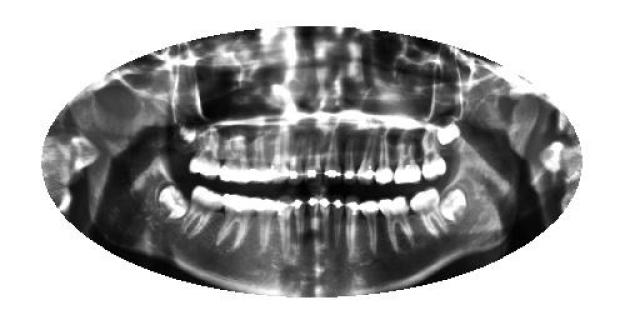Restorations: (155, 181, 191, 221), (438, 184, 472, 226)
